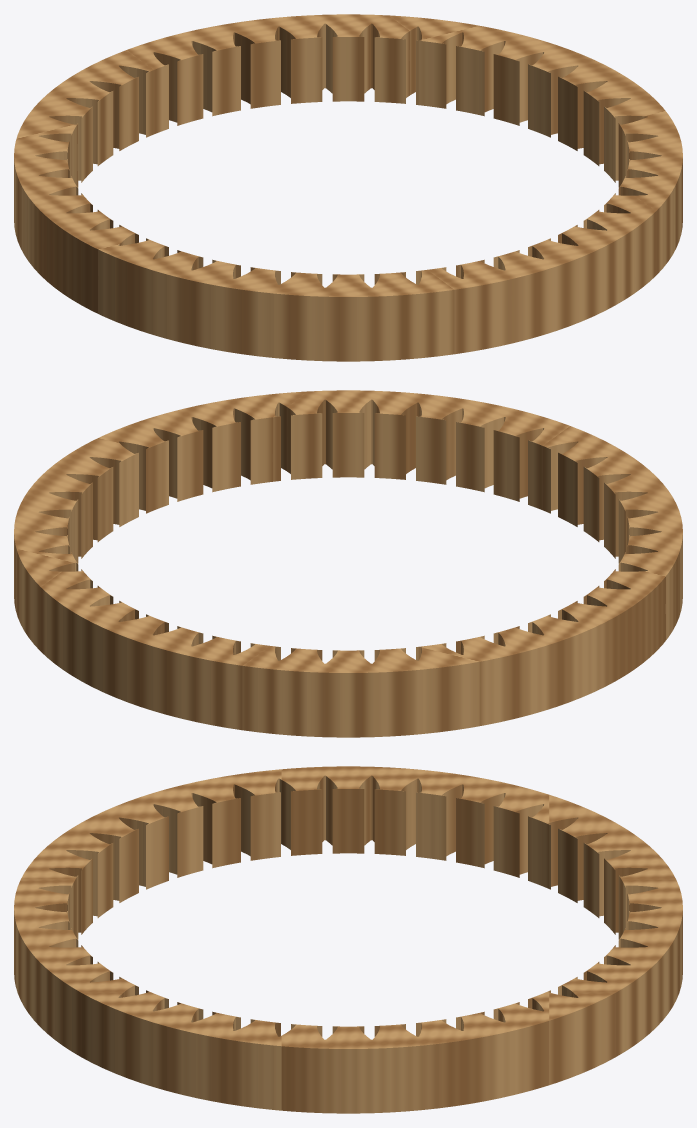
File: ring.glb
3 renders of one model, top to bottom at view 1: azimuth 30°, elevation 25°; view 2: azimuth 150°, elevation 25°; view 3: azimuth 270°, elevation 25°, orthographic.
Bounding box in the file's own units: 9.4e-05 × 1e-05 × 9.4e-05.
1 material, 1 textured.
